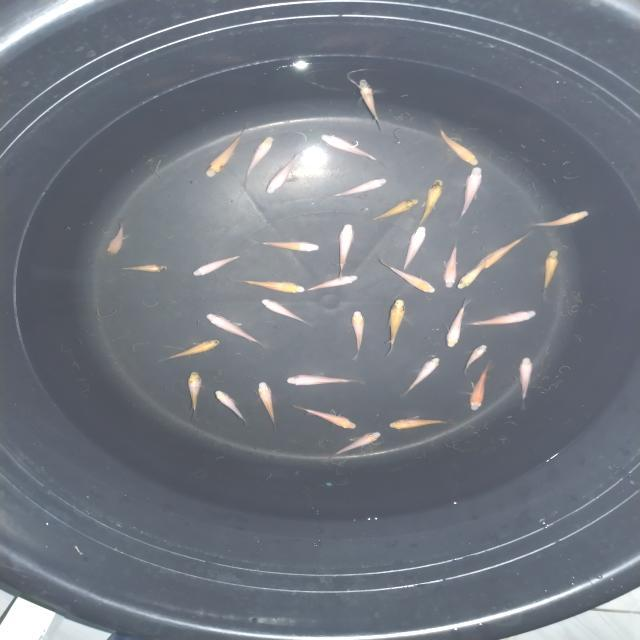nila: (200, 310, 273, 350), (472, 228, 534, 273), (313, 132, 389, 168), (238, 133, 278, 193), (378, 259, 443, 295), (434, 122, 484, 168), (410, 174, 447, 233), (326, 428, 389, 462), (348, 74, 386, 130), (200, 136, 244, 183), (262, 148, 303, 198), (390, 224, 432, 272), (296, 403, 362, 433), (400, 354, 445, 398), (462, 306, 542, 330), (530, 246, 564, 302), (256, 296, 312, 328), (442, 298, 476, 350), (380, 295, 408, 357), (326, 177, 394, 202), (456, 164, 486, 220), (437, 240, 468, 292), (466, 361, 496, 414), (212, 385, 248, 428), (192, 250, 247, 278), (528, 206, 592, 230), (369, 195, 423, 223), (304, 271, 364, 296), (162, 339, 222, 364), (330, 223, 358, 275), (381, 414, 452, 434), (512, 352, 536, 410), (276, 372, 362, 388), (253, 378, 279, 429), (237, 276, 310, 294), (456, 260, 489, 296), (182, 371, 207, 416), (102, 218, 130, 258), (348, 308, 368, 364), (458, 343, 494, 373), (252, 239, 322, 253), (114, 262, 174, 277)
